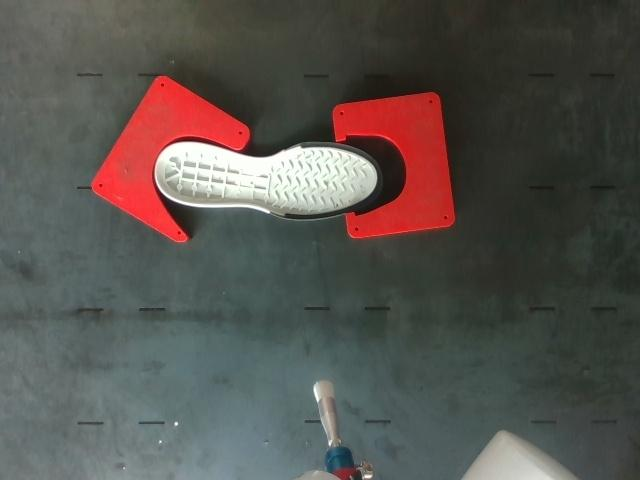shoes: (156, 142, 381, 219)
